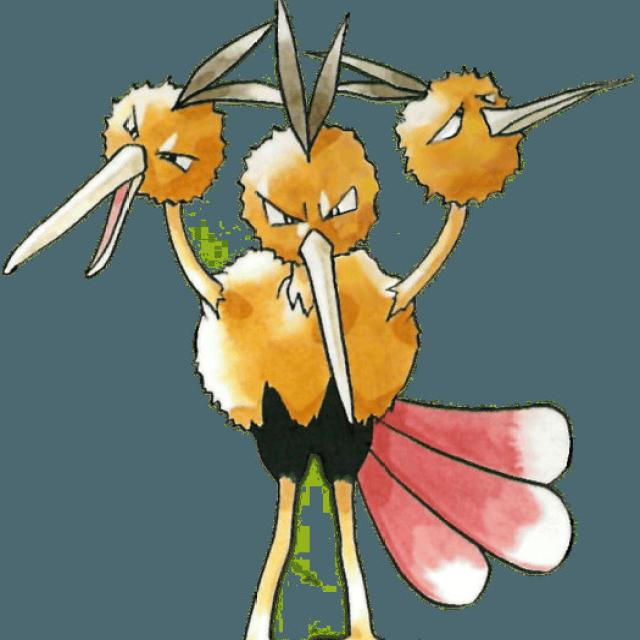Dodrio: (69, 59, 576, 531)
